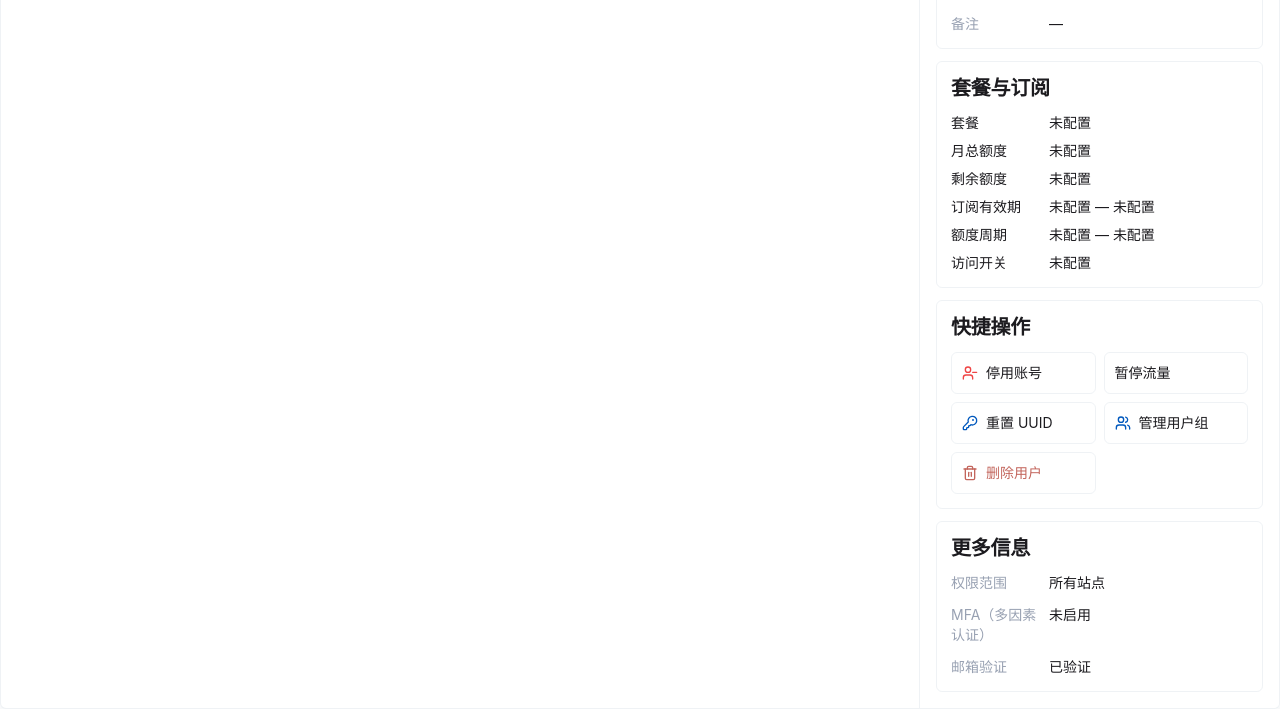
Scenario: UserCenterManagementRoute delete user flow › collects an audit reason in a confirmation dialog and sends DELETE ?reason=...
(page scrolled)
Click the button "删除用户": (1023, 473) [951,452,1096,494]
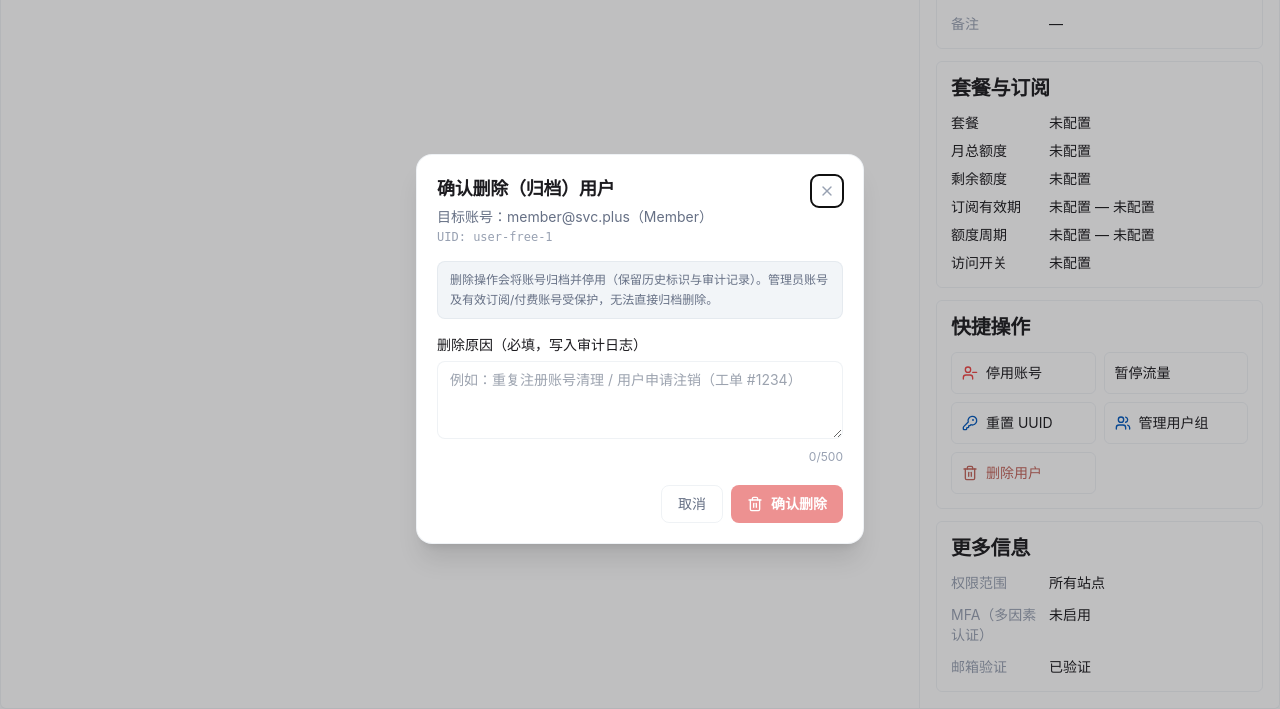
Now the heading "确认删除（归档）用户" is shown, box [437,178,614,199]
Now the button "确认删除" is disabled, box [731,485,843,523]
In the text box labelled "删除原因（必填，写入审计日志）": (640, 400) [437,361,843,439], type "  duplicate test account  "
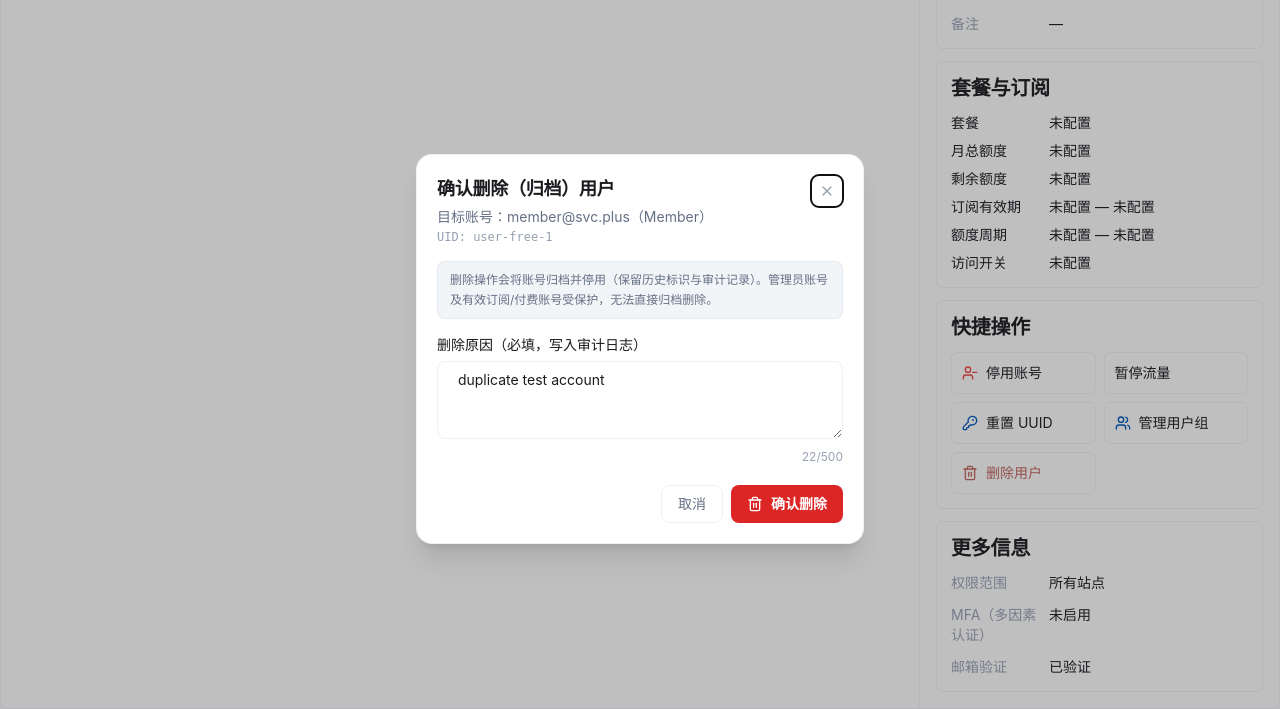
Now the button "确认删除" is enabled
Click the button "确认删除": (787, 504) [731,485,843,523]
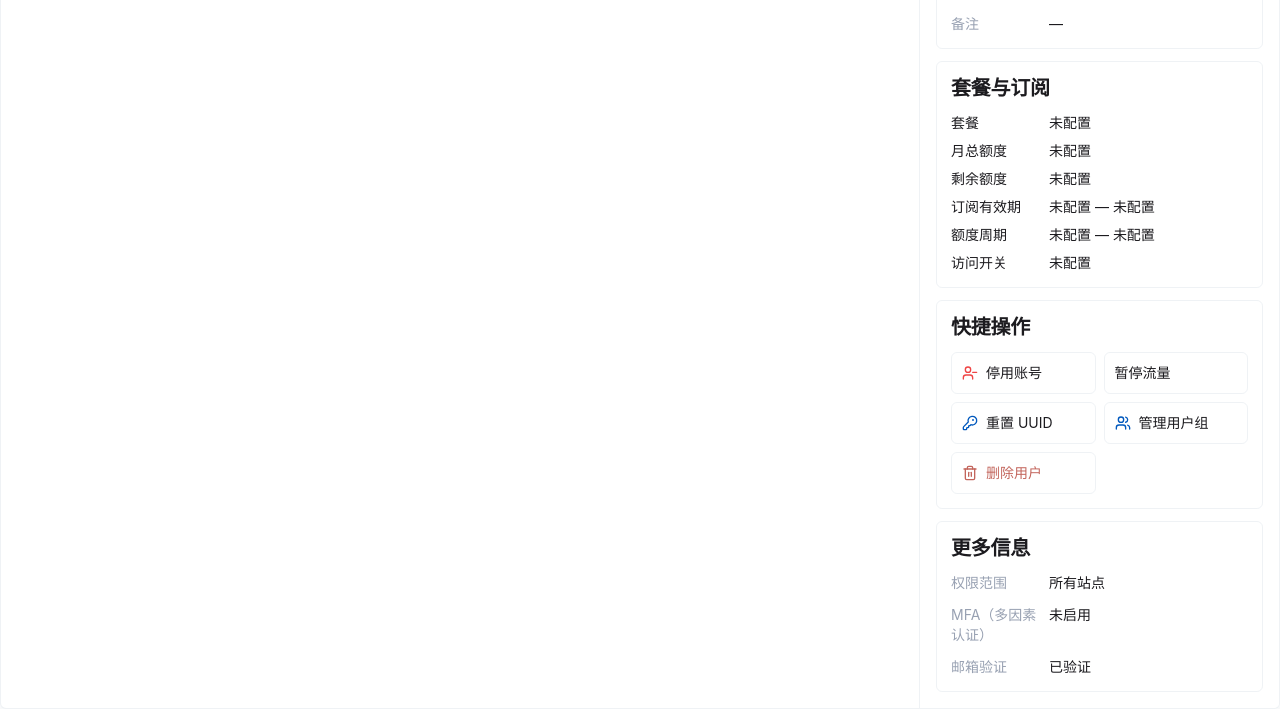
Now the heading "确认删除（归档）用户" is gone
